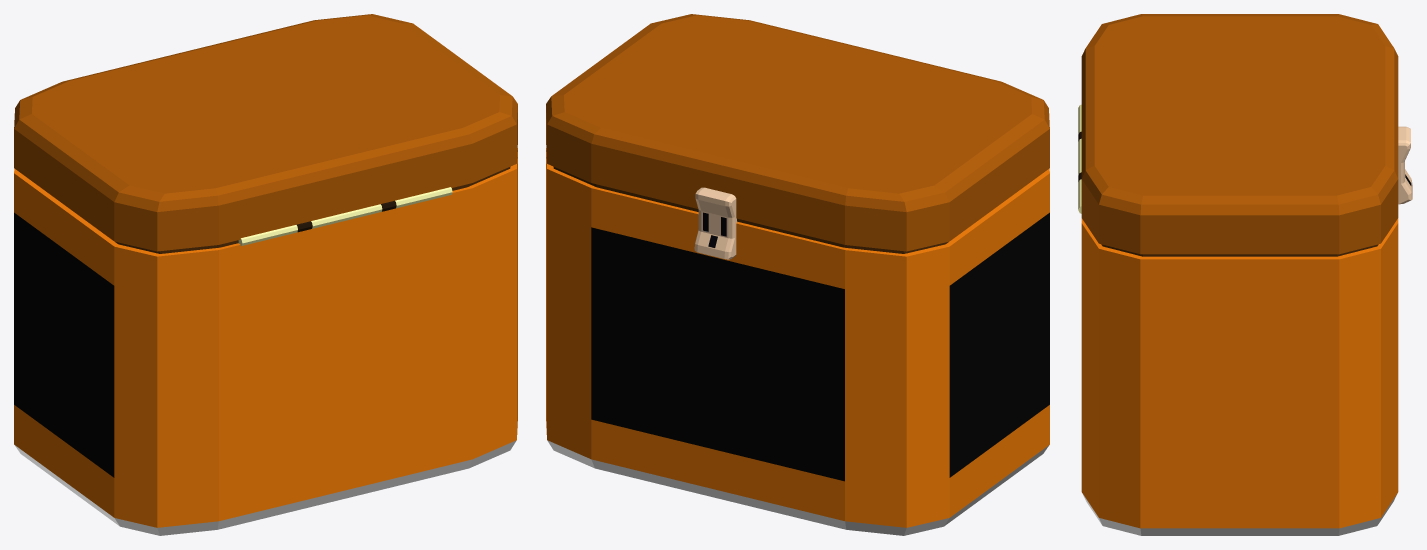
Rendered from tea-tin-3.gltf.
The picture shows the model from 3 angles, left to right: view 1: azimuth 30°, elevation 25°; view 2: azimuth 150°, elevation 25°; view 3: azimuth 270°, elevation 25°; orthographic projection.
Visible parts, largest first — view 1: tea-tin-3; view 2: tea-tin-3; view 3: tea-tin-3.
Part boxes in pixels (<box>): tea-tin-3: <box>14,14,517,535</box>; tea-tin-3: <box>546,14,1049,535</box>; tea-tin-3: <box>1078,14,1412,535</box>.
Size of the model in its own units: 0.1922 by 0.1559 by 0.1391.
1 material, 1 textured.
